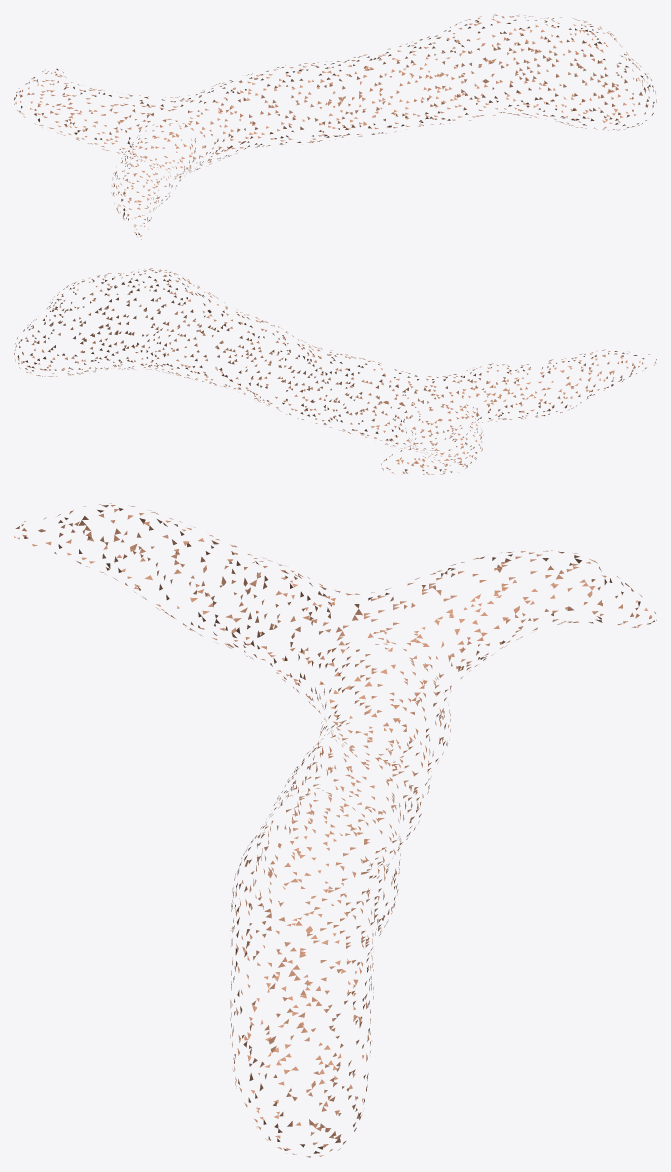
The model's file is morph_004.glb.
3 views of the same model, one above another, from view 1: azimuth 30°, elevation 25°; view 2: azimuth 150°, elevation 25°; view 3: azimuth 270°, elevation 25° (orthographic). The views are drawn at different scales.
Size of the model in its own units: 120 by 26.51 by 66.57.
